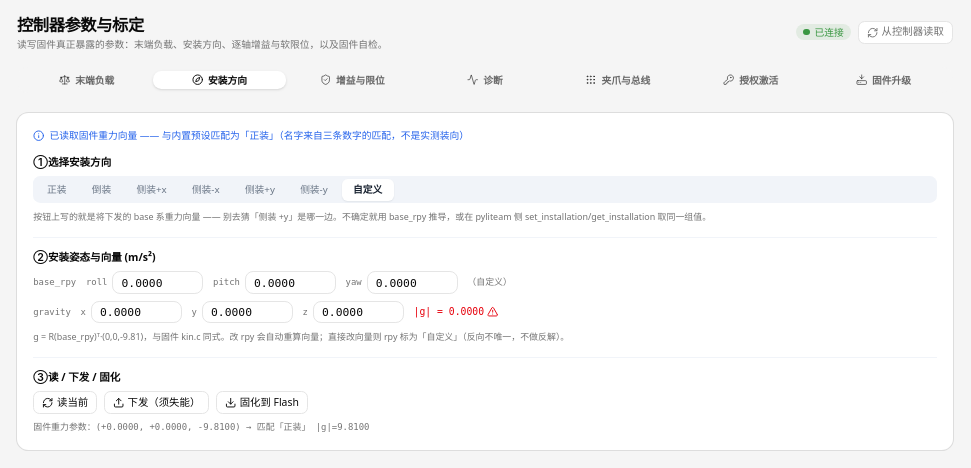
Test case: SettingsPage — installation direction › recomputes the vector when rpy is edited, and marks rpy custom when the vector is edited
The image size is (971, 468).
Expected: the text "已读取固件重力向量 —— 与内置预设匹配为「正装」（名字来自三条数字的匹配，不是实测装向）" is shown, [33,129,469,142]
Replace the text in the number field labelled "pitch" with "1.5708" at [290, 283], box [245,271,336,294]
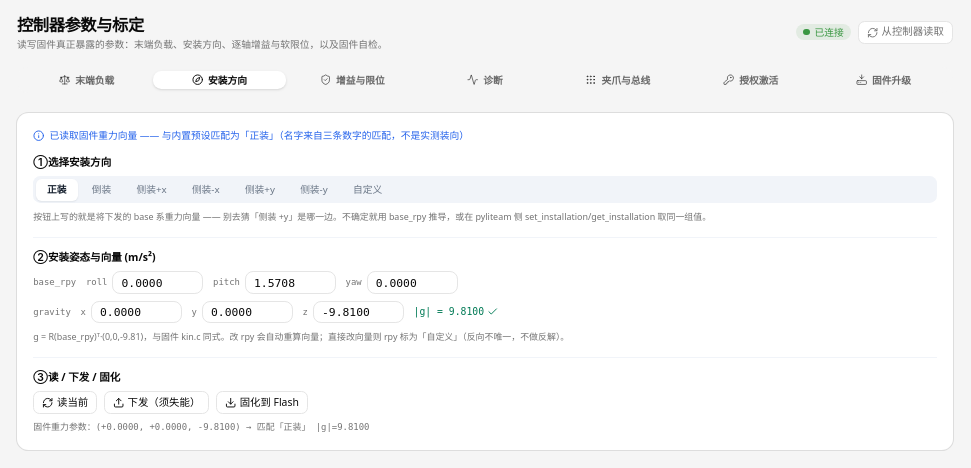
Leave the number field labelled "pitch", box [245,271,336,294]
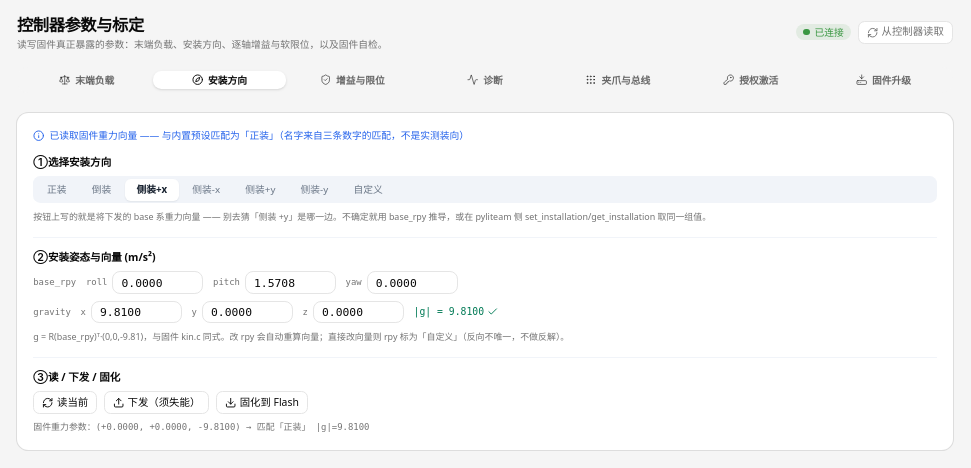
Expected: the number field showing "9.8100" is shown, [91,301,182,323]
// 反过来：直接改向量，rpy 不再描述它 ⇒ 落到「自定义」，并明说 rpy 是自定义的。
Replace the text in the number field labelled "z" with "-3.0000" at [358, 312], box [313,301,404,323]
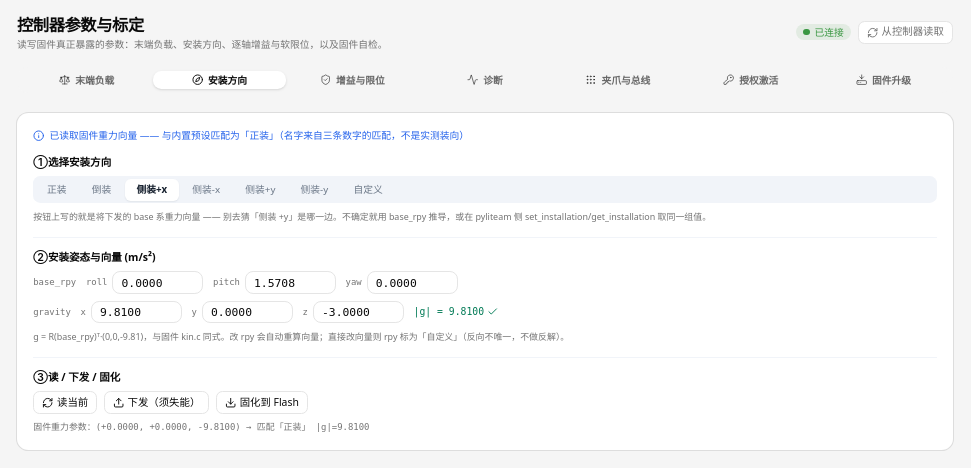
Leave the number field labelled "z", box [313,301,404,323]
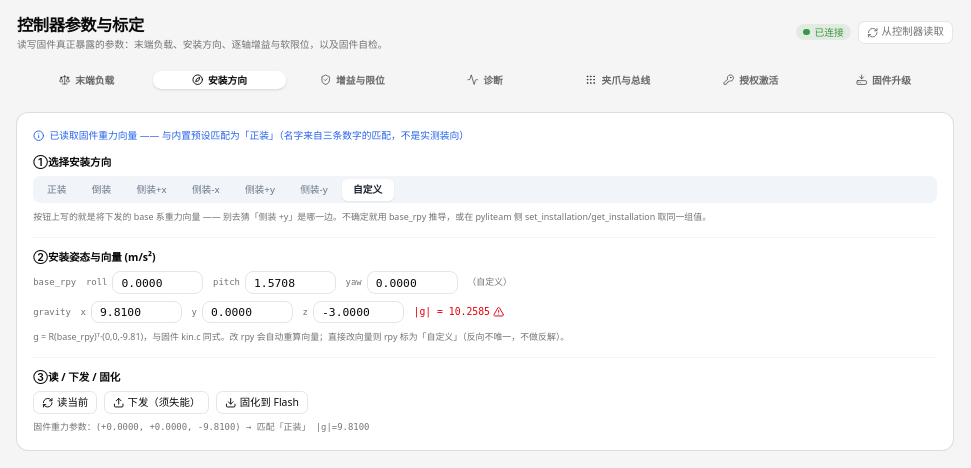
Expected: the text "（自定义）" is shown, [467,276,512,289]
